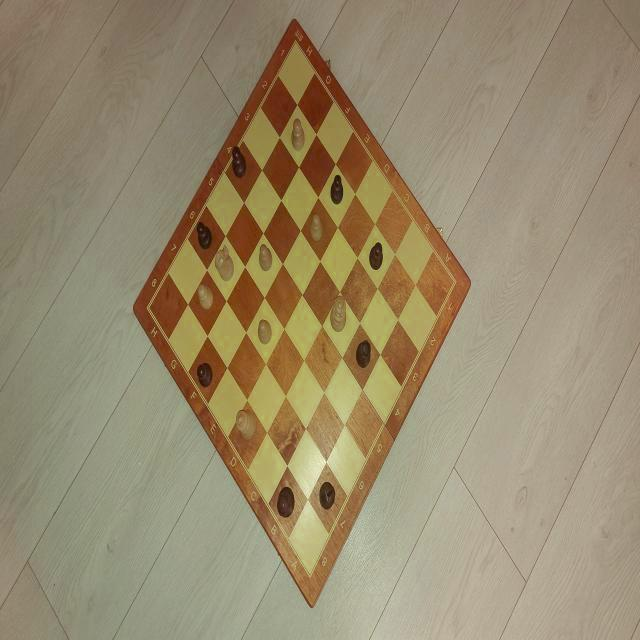chess-table-corners: (442, 264, 463, 299), (140, 290, 160, 324), (300, 554, 319, 586), (286, 33, 304, 61)
